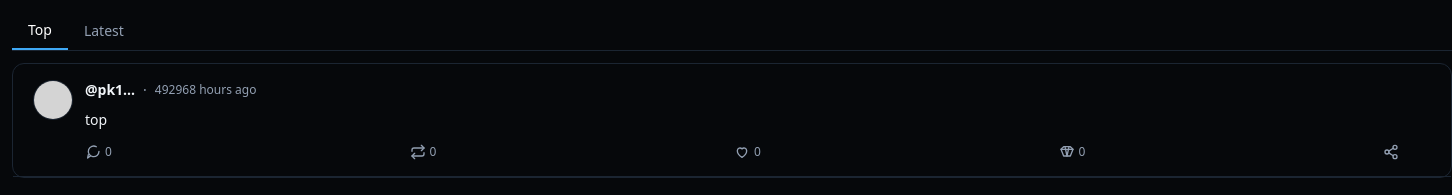
Top and Latest tabs switch
This screenshot has width=1452, height=195.
Expected: the text "top" is shown, [85,110,107,129]
Click the button "Latest". click: (104, 31)
box: [68,12,140,50]
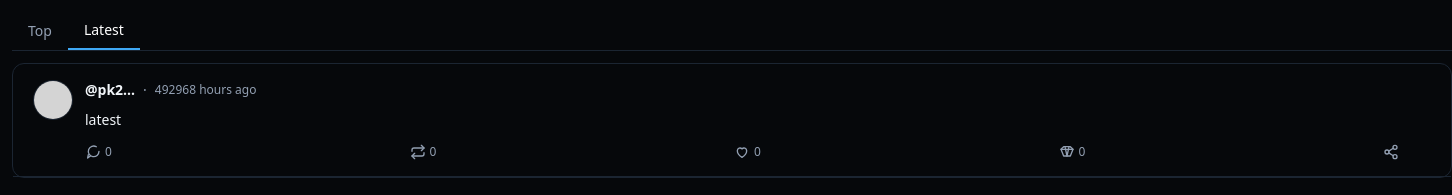
Expected: the text "latest" is shown, [85,110,121,129]
